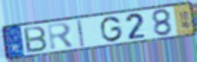2: (125, 12, 150, 41)
8: (151, 8, 174, 37)
B: (22, 25, 49, 54)
G: (100, 15, 124, 43)
I: (76, 19, 86, 48)
R: (46, 21, 75, 51)
